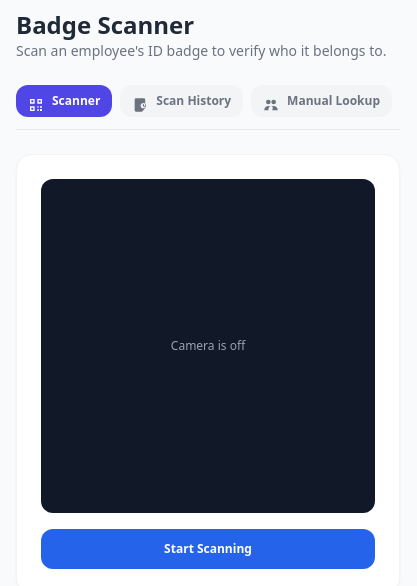
Test: BadgeScannerView › the Manual Lookup tab shows a no-results state for an unknown name
Click the tab "Manual Lookup". click: coordinates (322, 101)
box: [251,85,392,117]
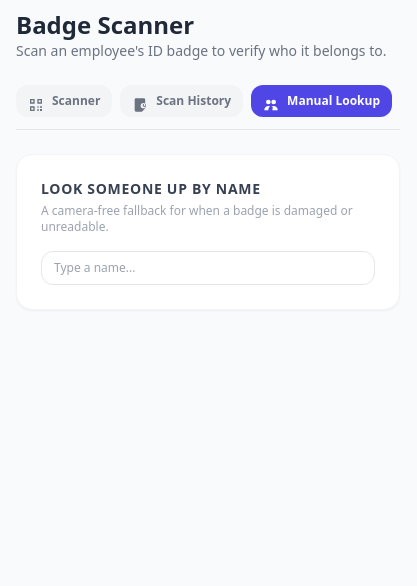
Type "Zzz" into the field with placeholder "Type a name...". click: coordinates (208, 268)
box: [41,251,375,285]
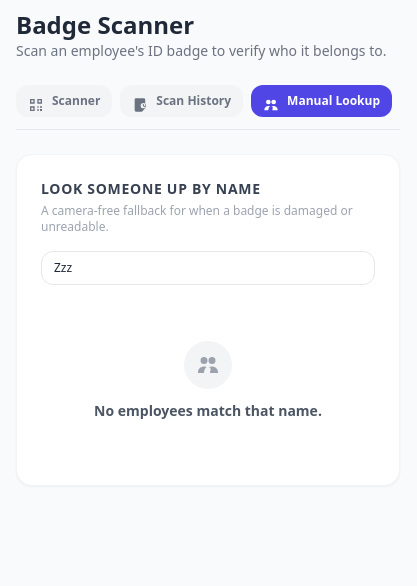
Expected: the text "No employees match that name." is shown, [94,401,322,421]
